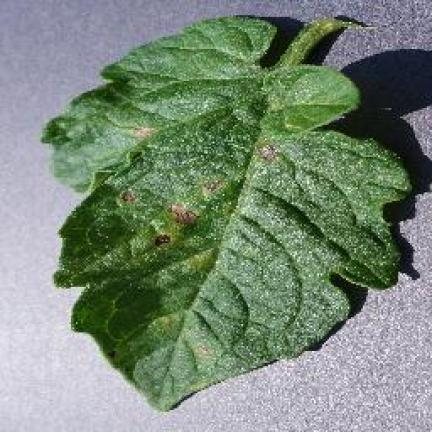disease: (44, 19, 408, 408)
leaf: (128, 150, 140, 160)
